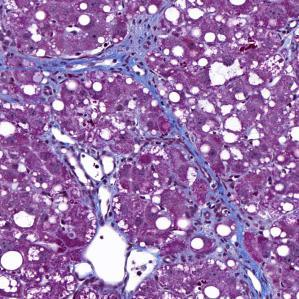fibrosis: (199, 165, 258, 272), (34, 55, 112, 94), (124, 16, 161, 79)
